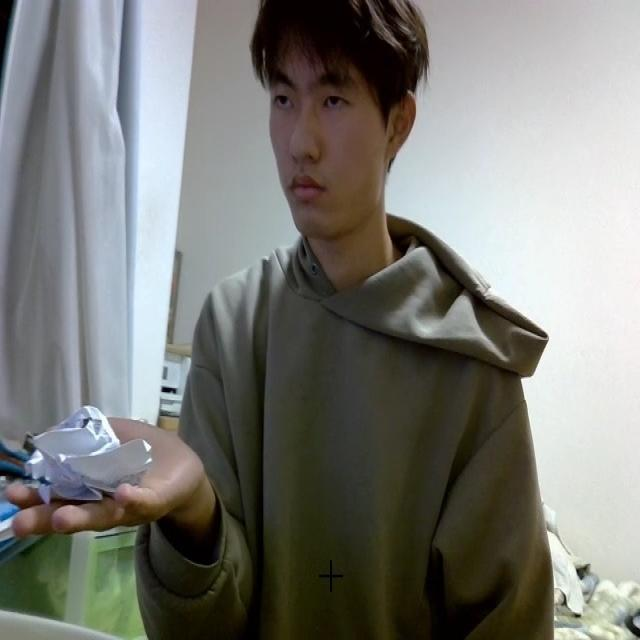paper: (25, 404, 153, 504)
